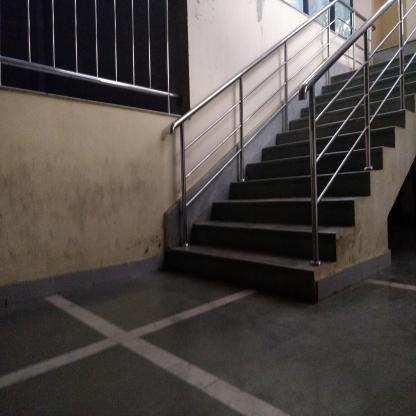stairs: (206, 188, 306, 311)
